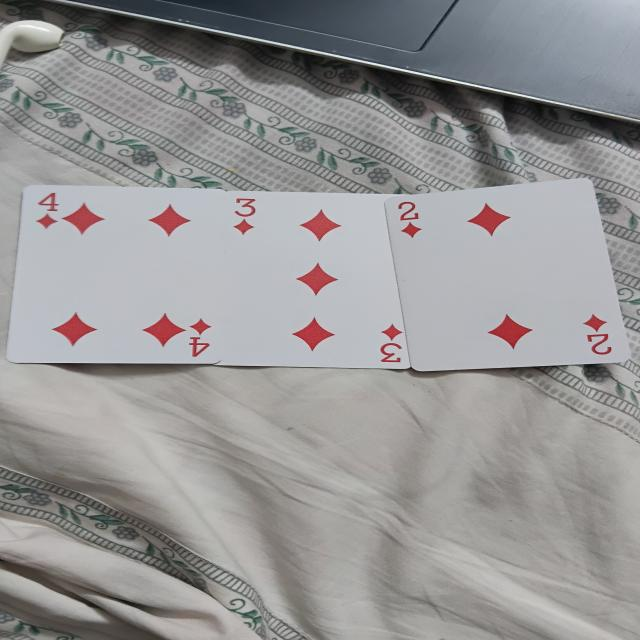2D: (399, 195, 613, 358)
3D: (223, 190, 407, 365)
4D: (28, 185, 217, 362)
